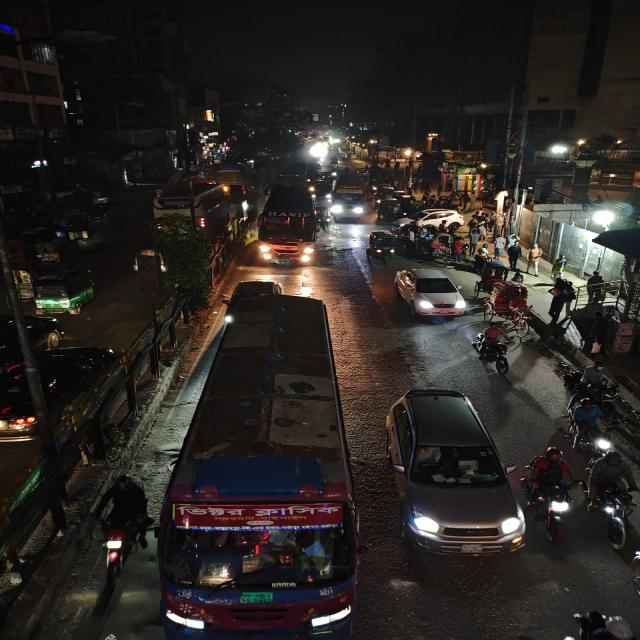bus: (176, 288, 352, 638), (256, 180, 320, 266), (148, 182, 228, 234), (329, 170, 367, 222)
car: (382, 384, 520, 566), (0, 342, 127, 446), (0, 309, 67, 378), (393, 266, 466, 321), (417, 207, 464, 226)
cng: (23, 266, 98, 314), (366, 229, 400, 265)
motorcycle: (87, 472, 148, 580), (584, 449, 639, 557), (524, 466, 578, 538), (563, 398, 616, 456), (562, 607, 638, 640), (471, 330, 512, 378)
pedestrian: (547, 278, 572, 324), (584, 311, 610, 355), (612, 316, 638, 354), (584, 270, 610, 304), (523, 243, 544, 277), (550, 254, 570, 281), (505, 242, 523, 270), (472, 246, 490, 274)
rickshaw: (480, 281, 531, 336), (426, 235, 453, 263)
